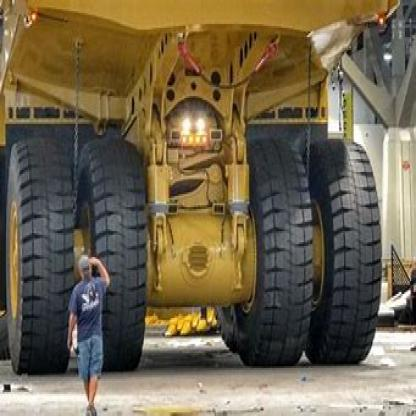person: (65, 246, 112, 414)
